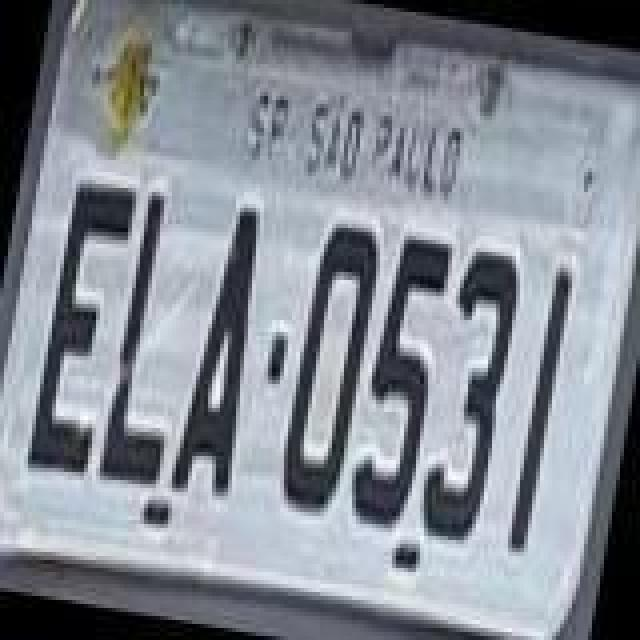1: (506, 260, 582, 556)
3: (414, 238, 530, 546)
5: (342, 230, 458, 538)
A: (168, 198, 280, 506)
E: (22, 174, 138, 482)
L: (94, 180, 210, 492)
O: (270, 216, 386, 520)
